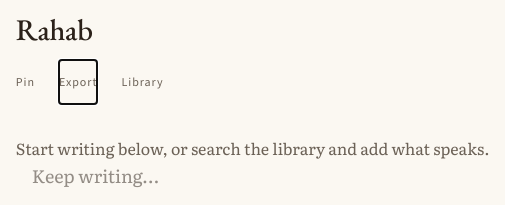
Test: study-editor — the Export menu › Escape closes it and hands focus back to Export
Click the heading "Export".
click(78, 82)  # box [59,74,98,90]
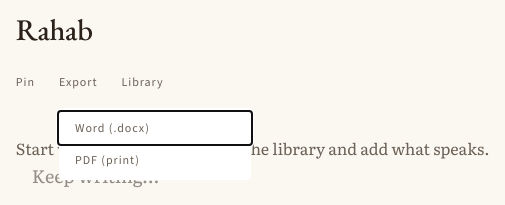
Expected: the heading "Export" is expanded, [59,74,98,90]
Expected: the link "Word (.docx)" is shown
Press Escape in the link "Word (.docx)", box [75,120,150,136]
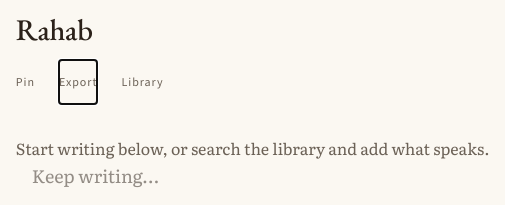
Expected: the heading "Export" is collapsed, [59,74,98,90]
